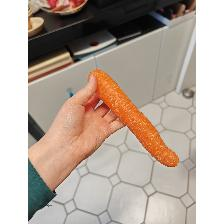Karotte: (86, 68, 180, 168)
